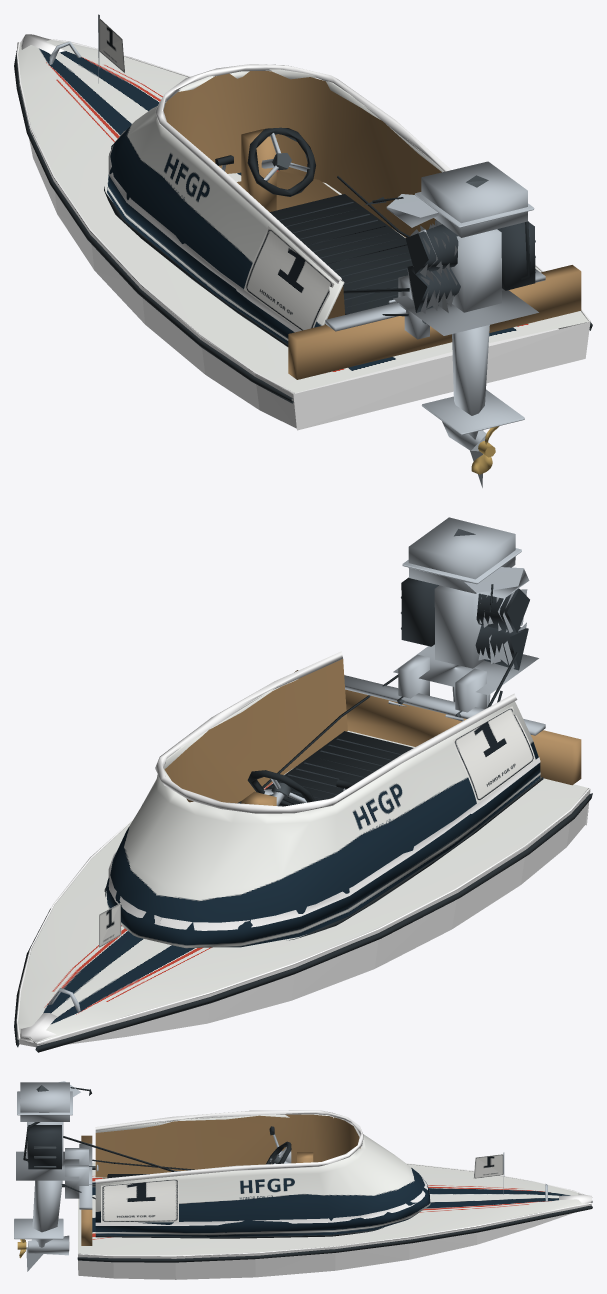
Rendered from boat_lod2.glb.
The picture shows the model from 3 angles, top to bottom: view 1: azimuth 30°, elevation 25°; view 2: azimuth 150°, elevation 25°; view 3: azimuth 270°, elevation 25°; orthographic projection. The views are drawn at different scales.
Parts seen in each view (by area): view 1: BoatMesh, MotorMesh; view 2: BoatMesh, MotorMesh; view 3: BoatMesh, MotorMesh.
Boxes of the visible parts, x1,y1,x2,y2 form: BoatMesh: (14, 14, 592, 430); MotorMesh: (364, 161, 538, 487); BoatMesh: (14, 651, 592, 1052); MotorMesh: (393, 517, 538, 707); BoatMesh: (61, 1110, 592, 1279); MotorMesh: (14, 1081, 91, 1271).
Size of the model in its own units: 1.34 by 1.15 by 3.26.
4 materials, 2 textured.
